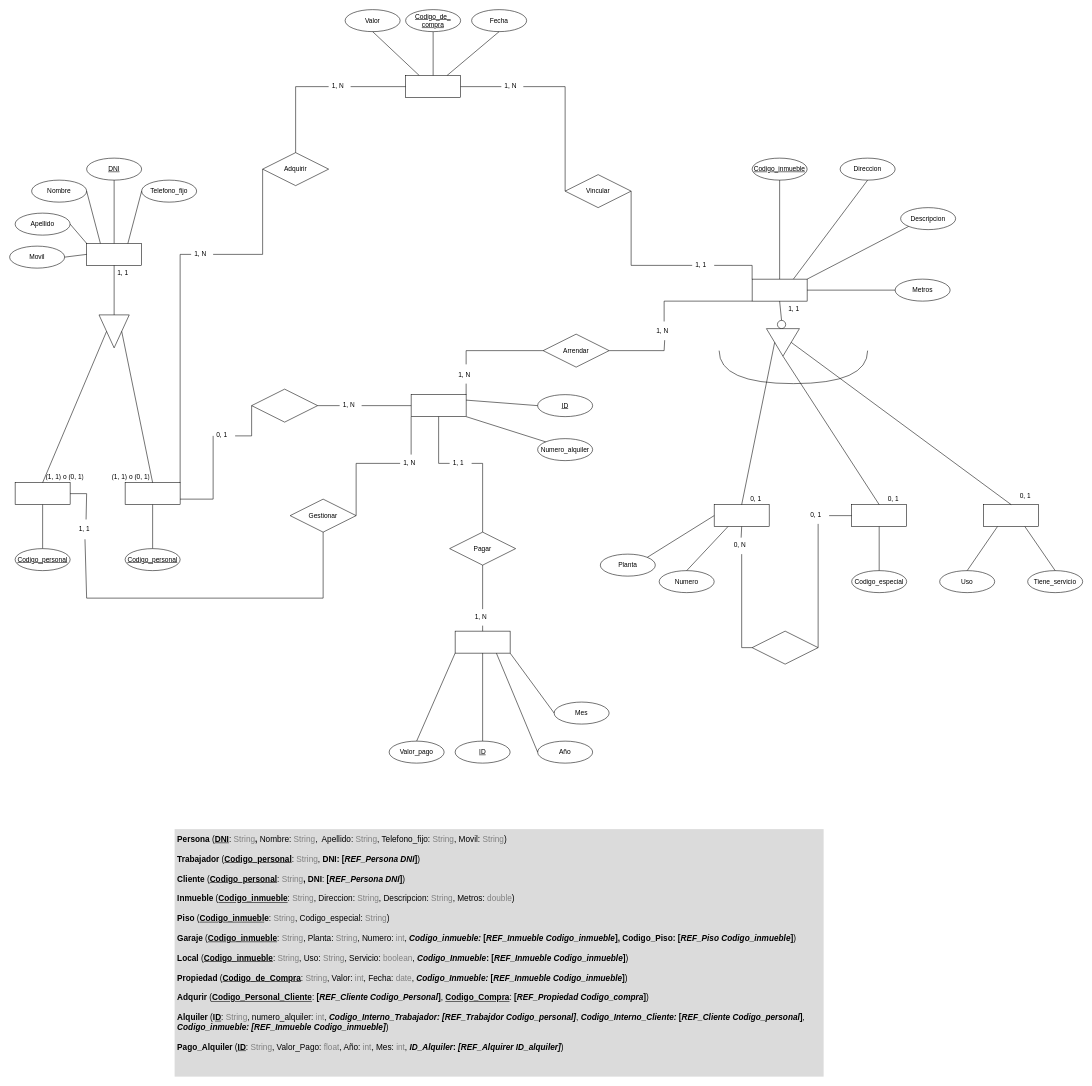
Image size: 1092x1086. Some labels were removed from this diagram. The shapes that lost their labels are listed below. From the top down, each one's centre as x and y in pixels, then its label:
At (433,86): "Propiedad".
At (114,254): "Persona".
At (779,290): "Inmueble".
At (284,405): "Alquilar".
At (438,405): "Alquiler".
At (42,493): "Trabajador".
At (152,493): "Cliente".
At (741,515): "Garaje".
At (879,515): "Piso".
At (1011,515): "Local".
At (482,642): "Pago_alquiler".
At (785,647): "Asociar".
